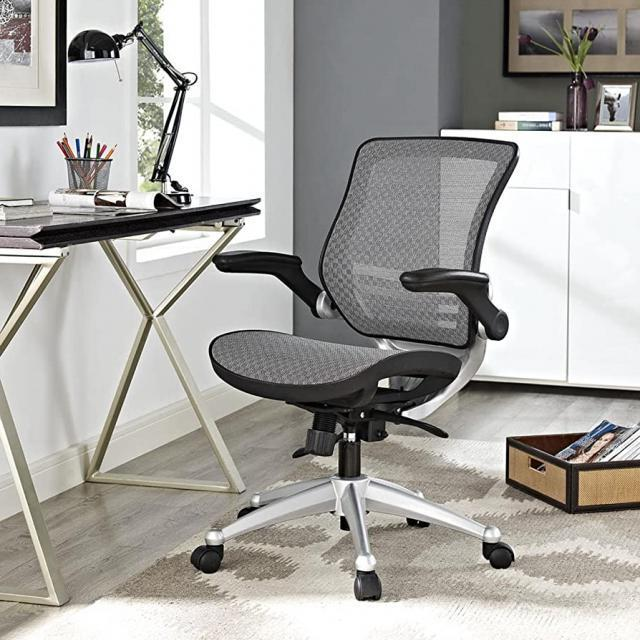chair: (184, 127, 531, 615)
